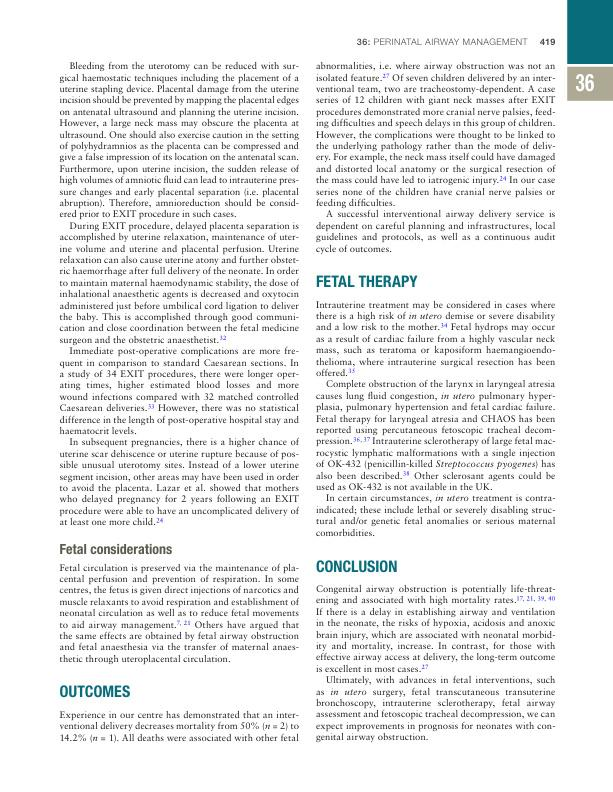header: (356, 36, 529, 46)
section-heading: (315, 273, 419, 288), (315, 558, 399, 574), (58, 684, 132, 699)
sub-section-heading: (59, 542, 173, 556)
text: (58, 59, 302, 526), (315, 300, 556, 538), (314, 60, 557, 256), (315, 583, 557, 743), (58, 562, 300, 666), (59, 709, 300, 744)
